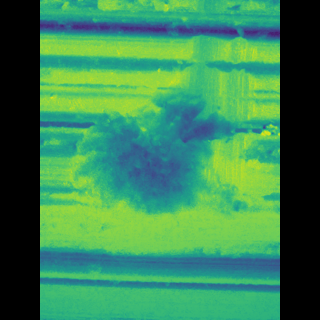Loch: (88, 27, 238, 235)
